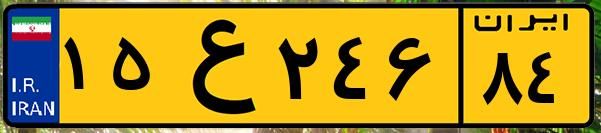1: (57, 26, 110, 100)
2: (270, 28, 330, 110)
4: (330, 28, 385, 110), (525, 38, 570, 115)
5: (110, 28, 158, 98)
6: (385, 28, 445, 110)
8: (475, 38, 525, 113)
ع: (158, 12, 270, 120)
